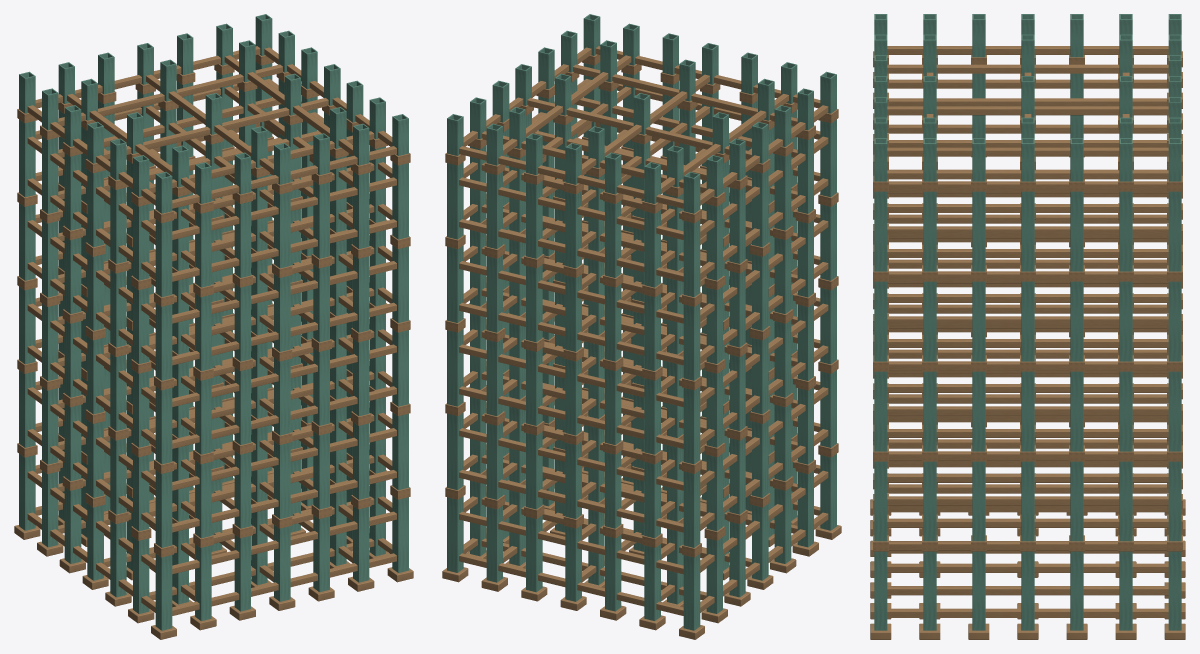
3 renders of one model, left to right at view 1: azimuth 30°, elevation 25°; view 2: azimuth 150°, elevation 25°; view 3: azimuth 270°, elevation 25°, orthographic. The views are drawn at different scales.
Visible parts, largest first — view 1: Tier 5 internal tie 0-0-0-0.25, Tier 5 internal tie 0-0.56-0-0.25, Tier 5 tie 0-0-0.25, Tier 0 tie 0-0-0.75, Tier 1 tie 0-0-0.75, Tier 0 tie 0-0-0.25, Tier 1 tie 0-0-0.25, Tier 2 tie 0-0-0.25, Tier 4 tie 0-0-0.75, Tier 2 tie 0-0-0.75, Tier 4 tie 0-0-0.25, Tier 3 tie 0-0-0.25 (+154 smaller); view 2: Tier 5 internal tie 0-0-0-0.25, Tier 5 internal tie 0--0.56-0-0.25, Tier 5 tie 2-0-0.25, Tier 0 tie 2-0-0.75, Tier 1 tie 2-0-0.75, Tier 0 tie 2-0-0.25, Tier 1 tie 2-0-0.25, Tier 2 tie 2-0-0.25, Tier 4 tie 2-0-0.75, Tier 2 tie 2-0-0.75, Tier 4 tie 2-0-0.25, Tier 3 tie 2-0-0.25 (+154 smaller); view 3: Tier 5 internal tie 1--0.56-0-0.25, Tier 5 internal tie 1-0-0-0.25, Tier 0 internal tie 1-0.56-0-0.25, Tier 0 tie 1-0-0.25, Tier 0 tie 1-0-0.75, Tier 1 internal tie 1-0.56-0-0.25, Tier 1 tie 1-0-0.25, Tier 1 tie 1-0-0.75, Tier 2 internal tie 1-0.56-0-0.25, Tier 3 internal tie 1-0.56-0-0.25, Tier 4 internal tie 1-0.56-0-0.25, Tier 5 internal tie 1-0.56-0-0.25 (+93 smaller).
Part boxes in pixels (x1=…): Tier 5 internal tie 0-0-0-0.25: x1=104, y1=98, x2=328, y2=159; Tier 5 internal tie 0-0.56-0-0.25: x1=58, y1=64, x2=282, y2=126; Tier 5 tie 0-0-0.25: x1=172, y1=146, x2=396, y2=208; Tier 0 tie 0-0-0.75: x1=172, y1=511, x2=396, y2=574; Tier 1 tie 0-0-0.75: x1=172, y1=428, x2=396, y2=490; Tier 0 tie 0-0-0.25: x1=172, y1=553, x2=396, y2=615; Tier 1 tie 0-0-0.25: x1=172, y1=470, x2=396, y2=532; Tier 2 tie 0-0-0.25: x1=172, y1=386, x2=396, y2=448; Tier 4 tie 0-0-0.75: x1=172, y1=177, x2=396, y2=239; Tier 2 tie 0-0-0.75: x1=172, y1=344, x2=396, y2=407; Tier 4 tie 0-0-0.25: x1=172, y1=219, x2=396, y2=281; Tier 3 tie 0-0-0.25: x1=172, y1=302, x2=396, y2=365; Tier 5 internal tie 0-0-0-0.25: x1=527, y1=98, x2=751, y2=159; Tier 5 internal tie 0--0.56-0-0.25: x1=573, y1=64, x2=797, y2=126; Tier 5 tie 2-0-0.25: x1=459, y1=146, x2=683, y2=208; Tier 0 tie 2-0-0.75: x1=459, y1=511, x2=683, y2=574; Tier 1 tie 2-0-0.75: x1=459, y1=428, x2=683, y2=490; Tier 0 tie 2-0-0.25: x1=459, y1=553, x2=683, y2=615; Tier 1 tie 2-0-0.25: x1=459, y1=470, x2=683, y2=532; Tier 2 tie 2-0-0.25: x1=459, y1=386, x2=683, y2=448; Tier 4 tie 2-0-0.75: x1=459, y1=177, x2=683, y2=239; Tier 2 tie 2-0-0.75: x1=459, y1=344, x2=683, y2=407; Tier 4 tie 2-0-0.25: x1=459, y1=219, x2=683, y2=281; Tier 3 tie 2-0-0.25: x1=459, y1=302, x2=683, y2=365; Tier 5 internal tie 1--0.56-0-0.25: x1=887, y1=64, x2=1168, y2=73; Tier 5 internal tie 1-0-0-0.25: x1=887, y1=106, x2=1168, y2=115; Tier 0 internal tie 1-0.56-0-0.25: x1=887, y1=586, x2=1168, y2=595; Tier 0 tie 1-0-0.25: x1=887, y1=608, x2=1168, y2=617; Tier 0 tie 1-0-0.75: x1=887, y1=563, x2=1168, y2=572; Tier 1 internal tie 1-0.56-0-0.25: x1=887, y1=496, x2=1168, y2=505; Tier 1 tie 1-0-0.25: x1=887, y1=518, x2=1168, y2=527; Tier 1 tie 1-0-0.75: x1=887, y1=473, x2=1168, y2=482; Tier 2 internal tie 1-0.56-0-0.25: x1=887, y1=406, x2=1168, y2=415; Tier 3 internal tie 1-0.56-0-0.25: x1=887, y1=316, x2=1168, y2=325; Tier 4 internal tie 1-0.56-0-0.25: x1=887, y1=226, x2=1168, y2=235; Tier 5 internal tie 1-0.56-0-0.25: x1=887, y1=147, x2=1168, y2=156.
Bounding box in the file's own units: 1.8 × 3.12 × 1.8.
2 materials, 2 textured.
